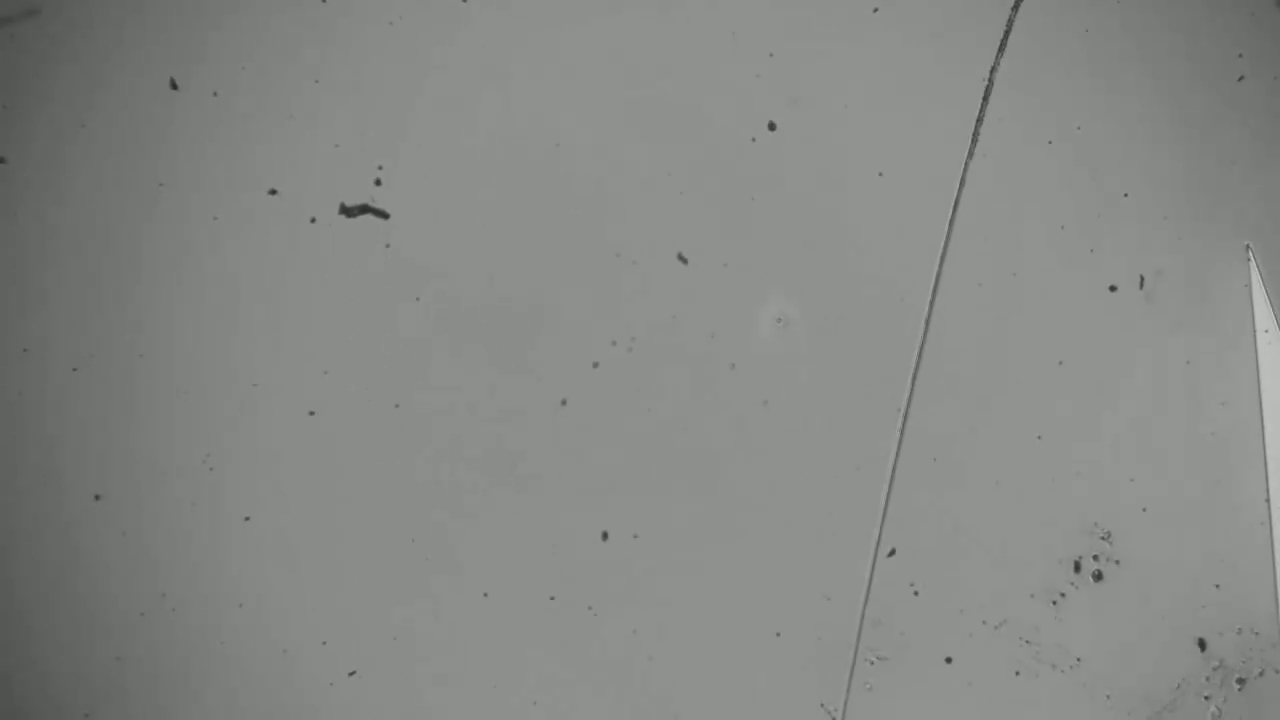scratch: (838, 1, 1037, 710)
